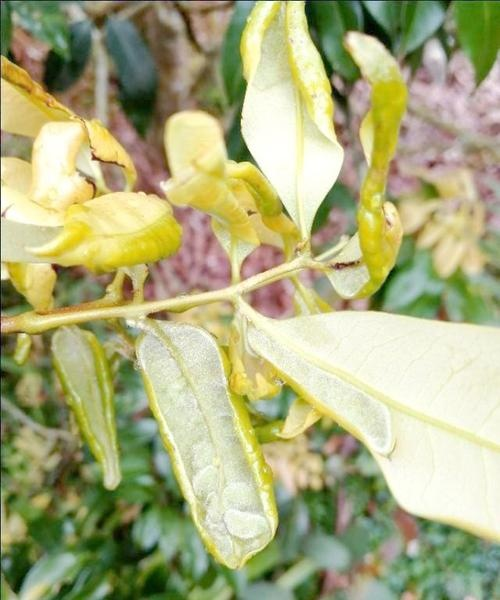Gall_Mite: (53, 307, 403, 561), (5, 45, 222, 282), (230, 22, 398, 273)
